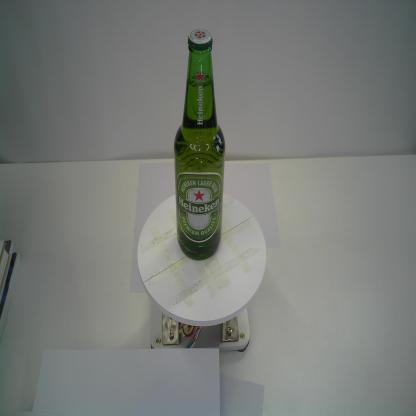Alcohol: (172, 26, 227, 264)
